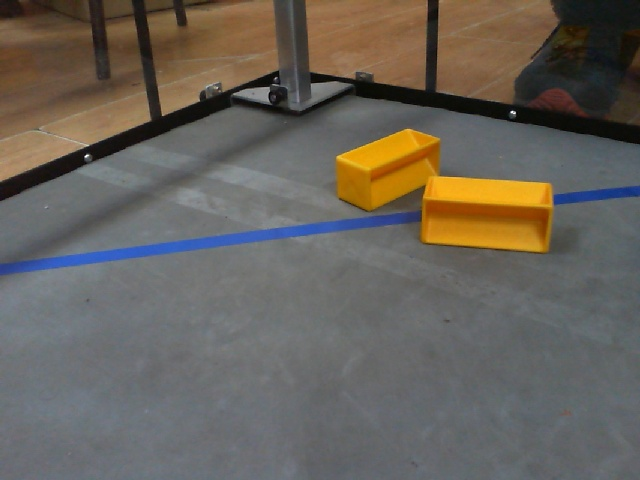YellowSample: (416, 167, 555, 258), (332, 126, 446, 211)
